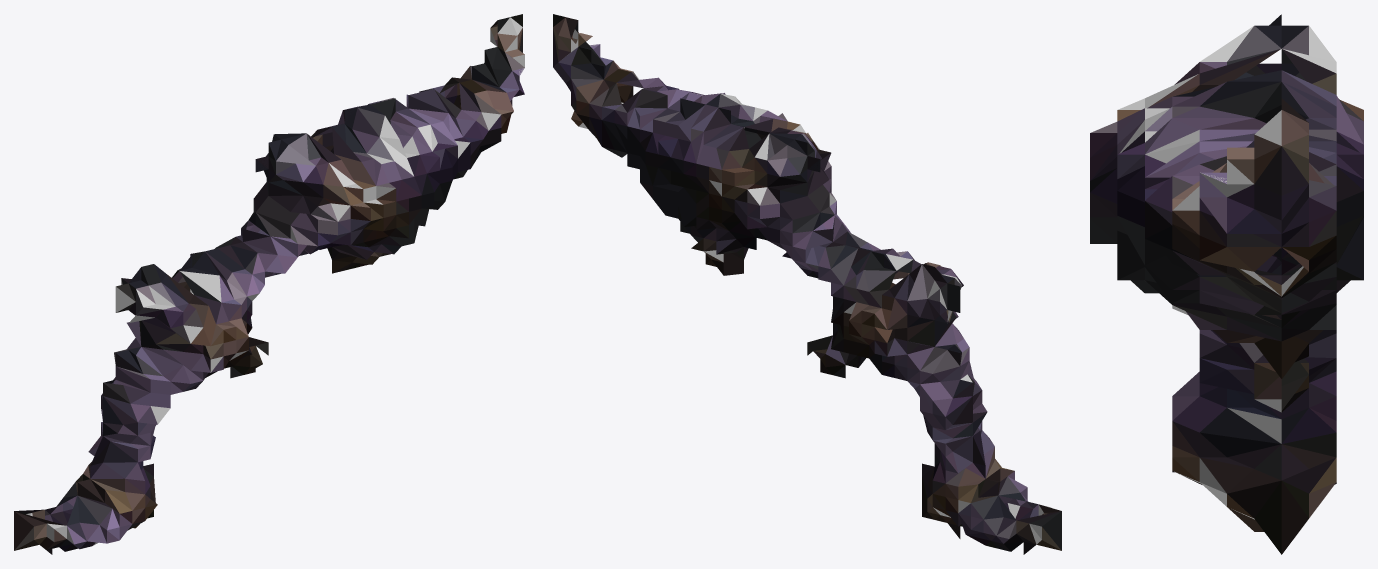
Rendered from B09_2_shadowvine_bow.obj.
3 renders of one model, left to right at view 1: azimuth 30°, elevation 25°; view 2: azimuth 150°, elevation 25°; view 3: azimuth 270°, elevation 25°, orthographic. The views are drawn at different scales.
Parts seen in each view (by area): view 1: B09_2_shadowvine_bow; view 2: B09_2_shadowvine_bow; view 3: B09_2_shadowvine_bow.
Part boxes in pixels (bbox=[...]): B09_2_shadowvine_bow: bbox=[14, 14, 524, 554]; B09_2_shadowvine_bow: bbox=[553, 14, 1061, 554]; B09_2_shadowvine_bow: bbox=[1090, 14, 1363, 554].
Bounding box in the file's own units: 40 × 32 × 10.
